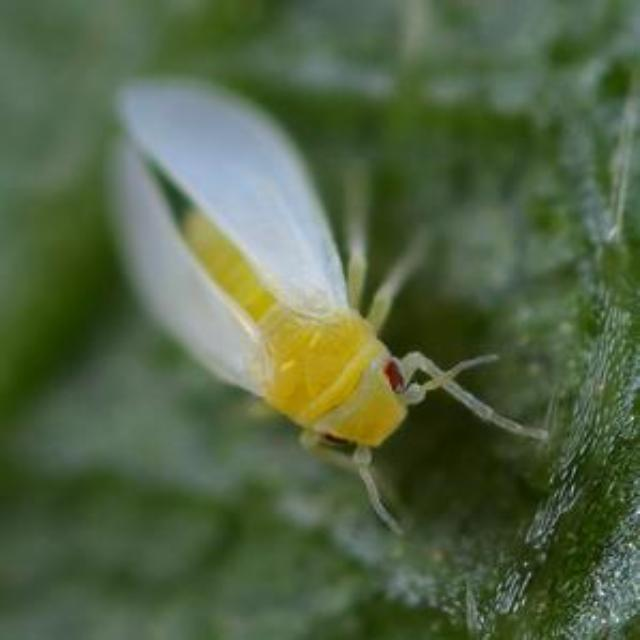Silverleaf whitefly: (84, 66, 552, 594)
